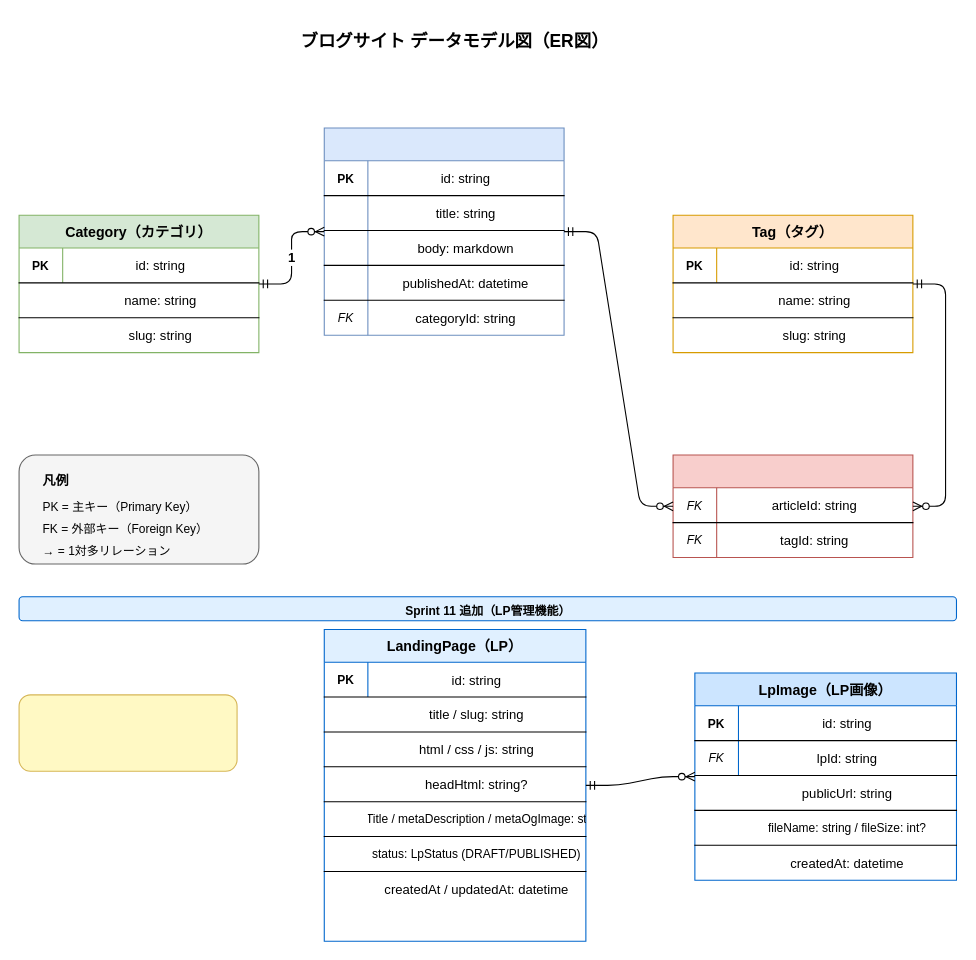
Some shapes in this 976 by 960 pixel diagram are drawn without their labels. The box of each missing label's shape, as (x1, y1, x2, y2) in pixels:
ArticleTag（中間テーブル）: (672, 454, 913, 558)
Article（記事）: (323, 127, 564, 335)
LpStatus（enum） DRAFT PUBLISHED: (18, 694, 237, 771)
